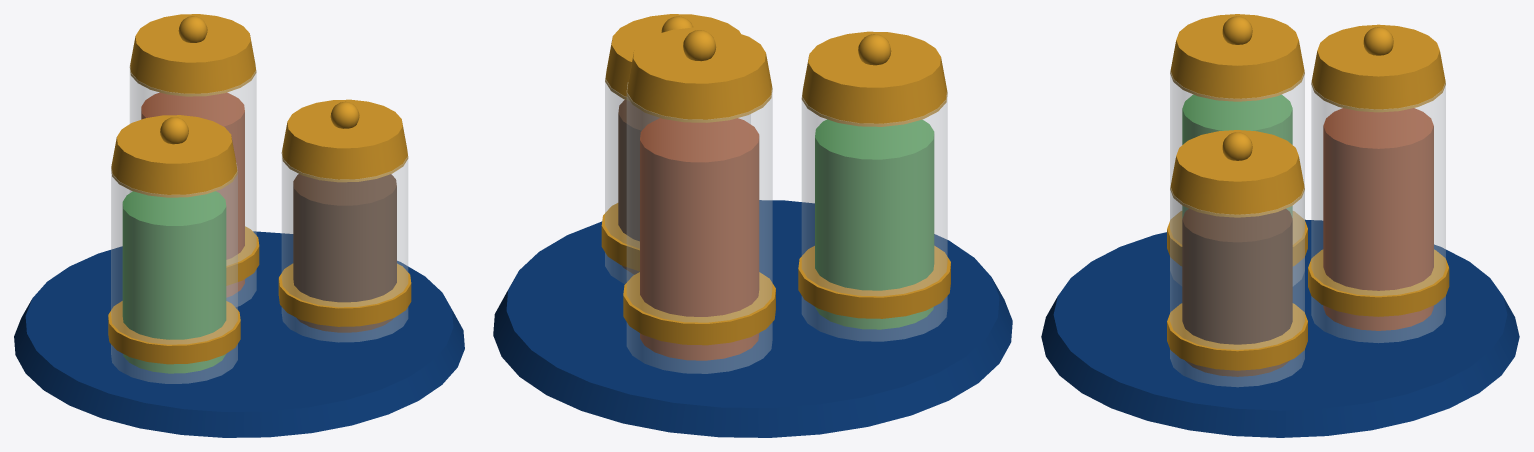
File: spice-containers.glb
3 renders of one model, left to right at view 1: azimuth 30°, elevation 25°; view 2: azimuth 150°, elevation 25°; view 3: azimuth 270°, elevation 25°, orthographic. The views are drawn at different scales.
Visible parts, largest first — view 1: SpiceContainers; view 2: SpiceContainers; view 3: SpiceContainers.
Part boxes in pixels (x1,y1,x2,y2): SpiceContainers: [14, 14, 464, 437]; SpiceContainers: [493, 14, 1012, 437]; SpiceContainers: [1041, 14, 1519, 437].
Bounding box in the file's own units: 1.56 × 1.11 × 1.56.
